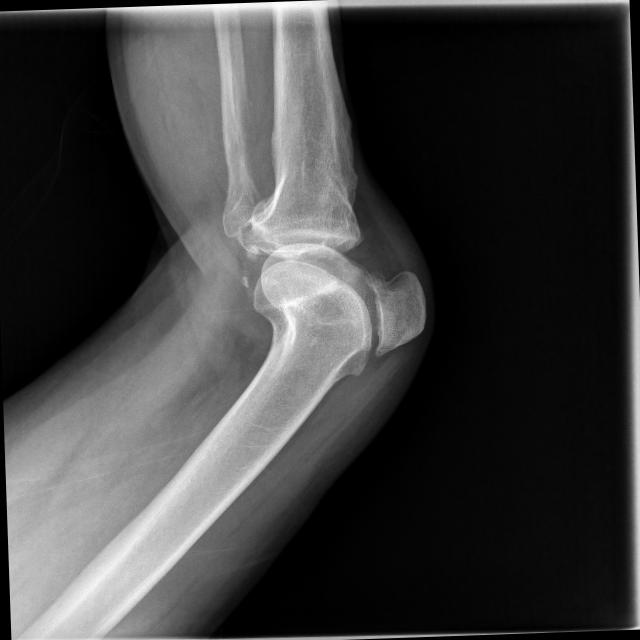Knee: (234, 176, 428, 382)
